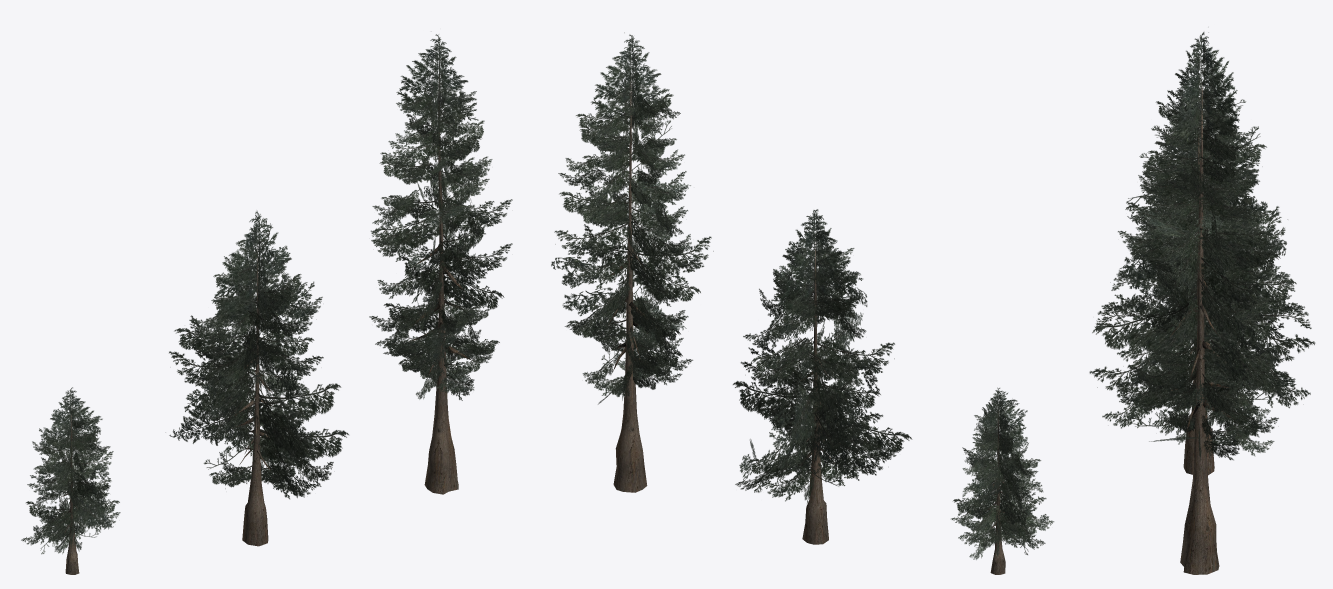
File: tree-b.glb
The picture shows the model from 3 angles, left to right: view 1: azimuth 30°, elevation 25°; view 2: azimuth 150°, elevation 25°; view 3: azimuth 270°, elevation 25°; orthographic projection. The views are drawn at different scales.
Visible parts, largest first — view 1: Tree_Branches_01_Tree_Branches_01_0, Tree_Branches_01.001_Tree_Branches_01_0, Tree_Trunk_01_Tree_Trunk_01_0; view 2: Tree_Branches_01_Tree_Branches_01_0, Tree_Branches_01.001_Tree_Branches_01_0, Tree_Trunk_01_Tree_Trunk_01_0; view 3: Tree_Branches_01_Tree_Branches_01_0, Tree_Trunk_01_Tree_Trunk_01_0.
Part boxes in pixels (x1=…): Tree_Branches_01_Tree_Branches_01_0: x1=169, y1=34, x2=512, y2=499; Tree_Branches_01.001_Tree_Branches_01_0: x1=21, y1=387, x2=120, y2=554; Tree_Trunk_01_Tree_Trunk_01_0: x1=61, y1=132, x2=472, y2=574; Tree_Branches_01_Tree_Branches_01_0: x1=551, y1=32, x2=912, y2=502; Tree_Branches_01.001_Tree_Branches_01_0: x1=951, y1=387, x2=1054, y2=559; Tree_Trunk_01_Tree_Trunk_01_0: x1=602, y1=81, x2=1006, y2=574; Tree_Branches_01_Tree_Branches_01_0: x1=1089, y1=32, x2=1315, y2=460; Tree_Trunk_01_Tree_Trunk_01_0: x1=1169, y1=85, x2=1232, y2=574.
Size of the model in its own units: 1.1 by 1 by 0.3891.
2 materials, 2 textured.
